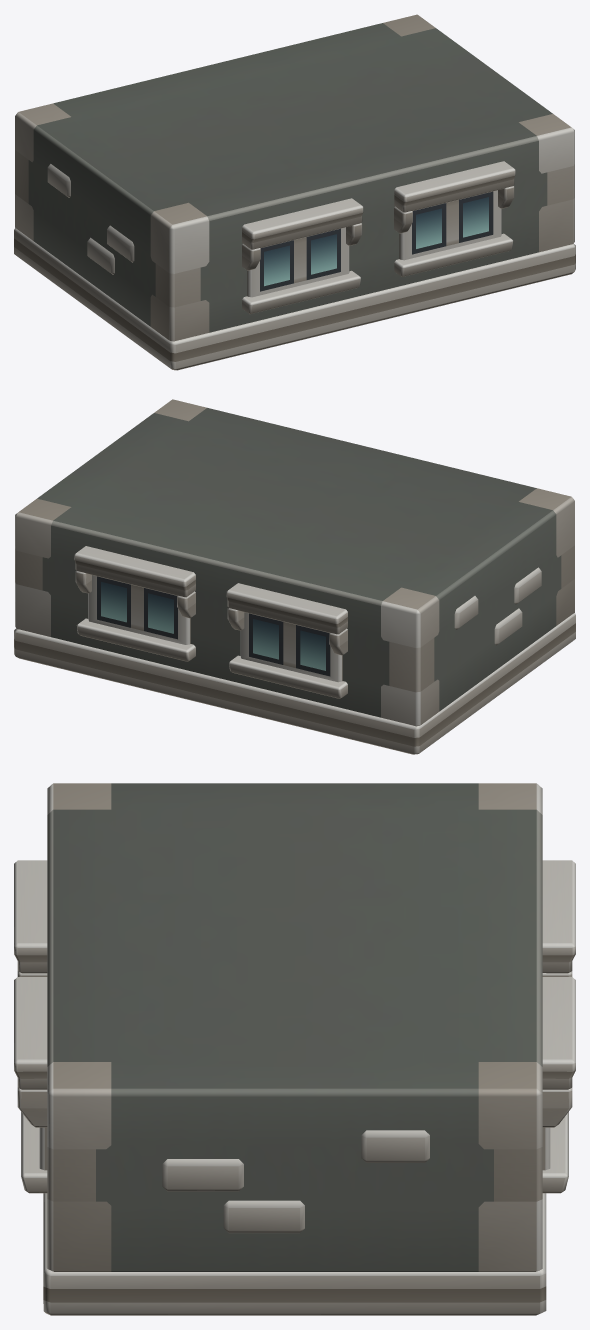
The model's file is appartment_type1_x6_element_grey.fbx.
The picture shows the model from 3 angles, top to bottom: view 1: azimuth 30°, elevation 25°; view 2: azimuth 150°, elevation 25°; view 3: azimuth 270°, elevation 25°; orthographic projection. The views are drawn at different scales.
Visible parts, largest first — view 1: appartment_type1_x6_element_grey; view 2: appartment_type1_x6_element_grey; view 3: appartment_type1_x6_element_grey.
Part boxes in pixels (x1,y1,x2,y2): appartment_type1_x6_element_grey: (14, 14, 575, 370); appartment_type1_x6_element_grey: (14, 399, 575, 754); appartment_type1_x6_element_grey: (14, 783, 575, 1315).
Size of the model in its own units: 1219 by 409 by 918.
